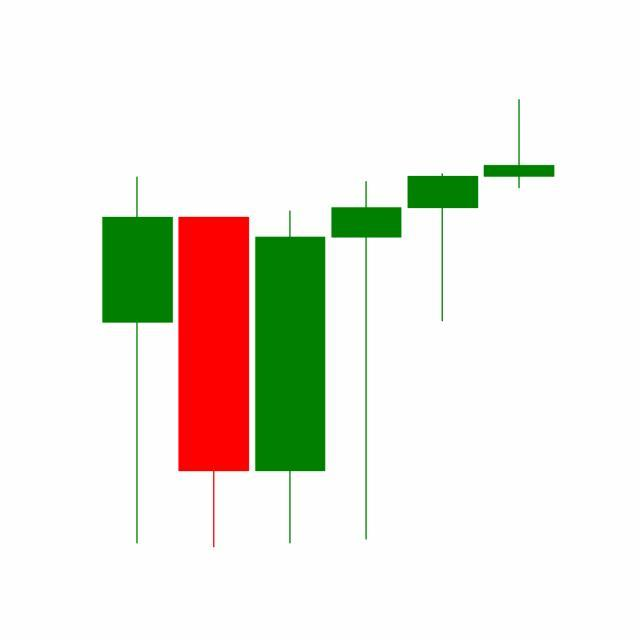Hanging Man: (404, 172, 482, 324)
